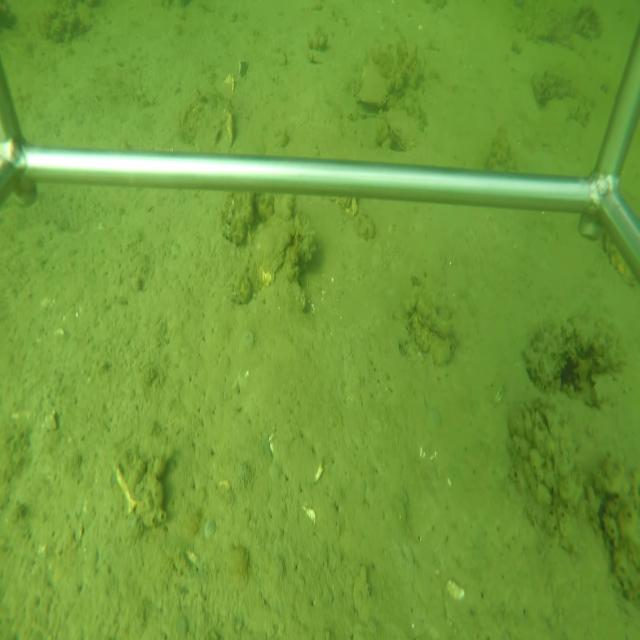Oyster-Closed: (251, 213, 298, 289), (411, 310, 457, 353), (355, 60, 394, 109), (385, 107, 426, 152)
